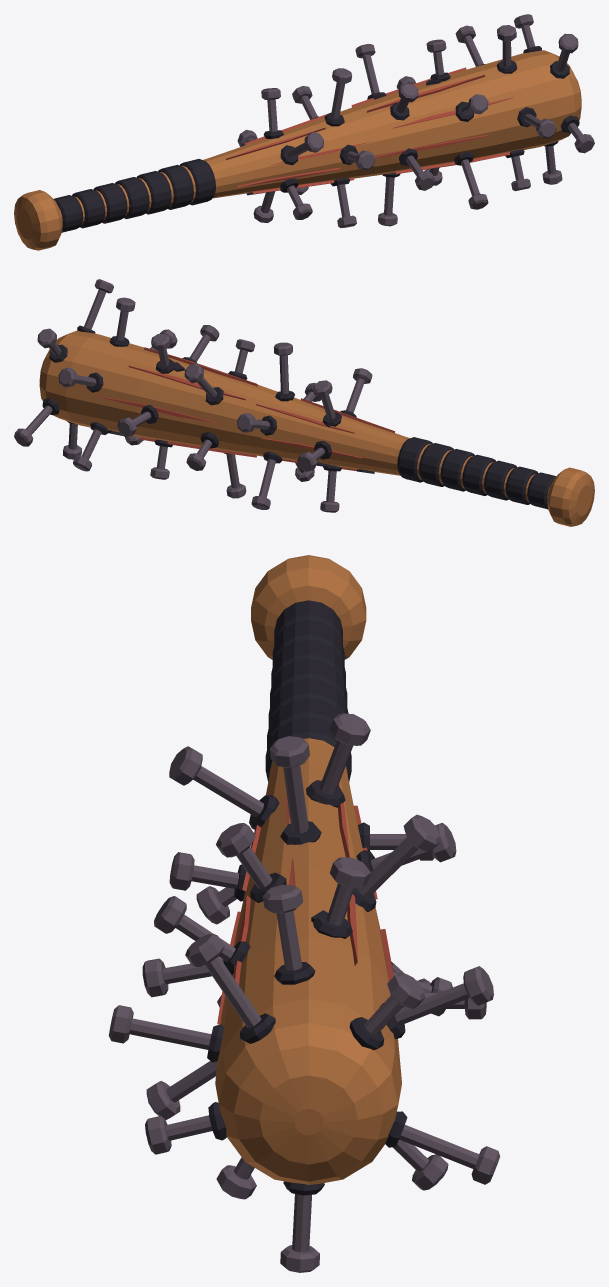
The picture shows the model from 3 angles, top to bottom: view 1: azimuth 30°, elevation 25°; view 2: azimuth 150°, elevation 25°; view 3: azimuth 270°, elevation 25°; orthographic projection. The views are drawn at different scales.
Visible parts, largest first — view 1: body, nails, gripTape, woodGrain; view 2: body, nails, gripTape, woodGrain; view 3: body, nails, gripTape, woodGrain.
Part boxes in pixels (box(x1,y1,x2,y2)): body: box(14, 50, 581, 250); nails: box(237, 14, 594, 228); gripTape: box(54, 46, 579, 232); woodGrain: box(226, 67, 513, 193); body: box(39, 330, 594, 526); nails: box(14, 279, 372, 512); gripTape: box(42, 325, 555, 509); woodGrain: box(97, 347, 394, 471); body: box(215, 555, 401, 1184); nails: box(108, 713, 500, 1272); gripTape: box(207, 600, 407, 1195); woodGrain: box(217, 783, 401, 1037).
Size of the model in its own units: 1 by 0.2999 by 0.3184.
